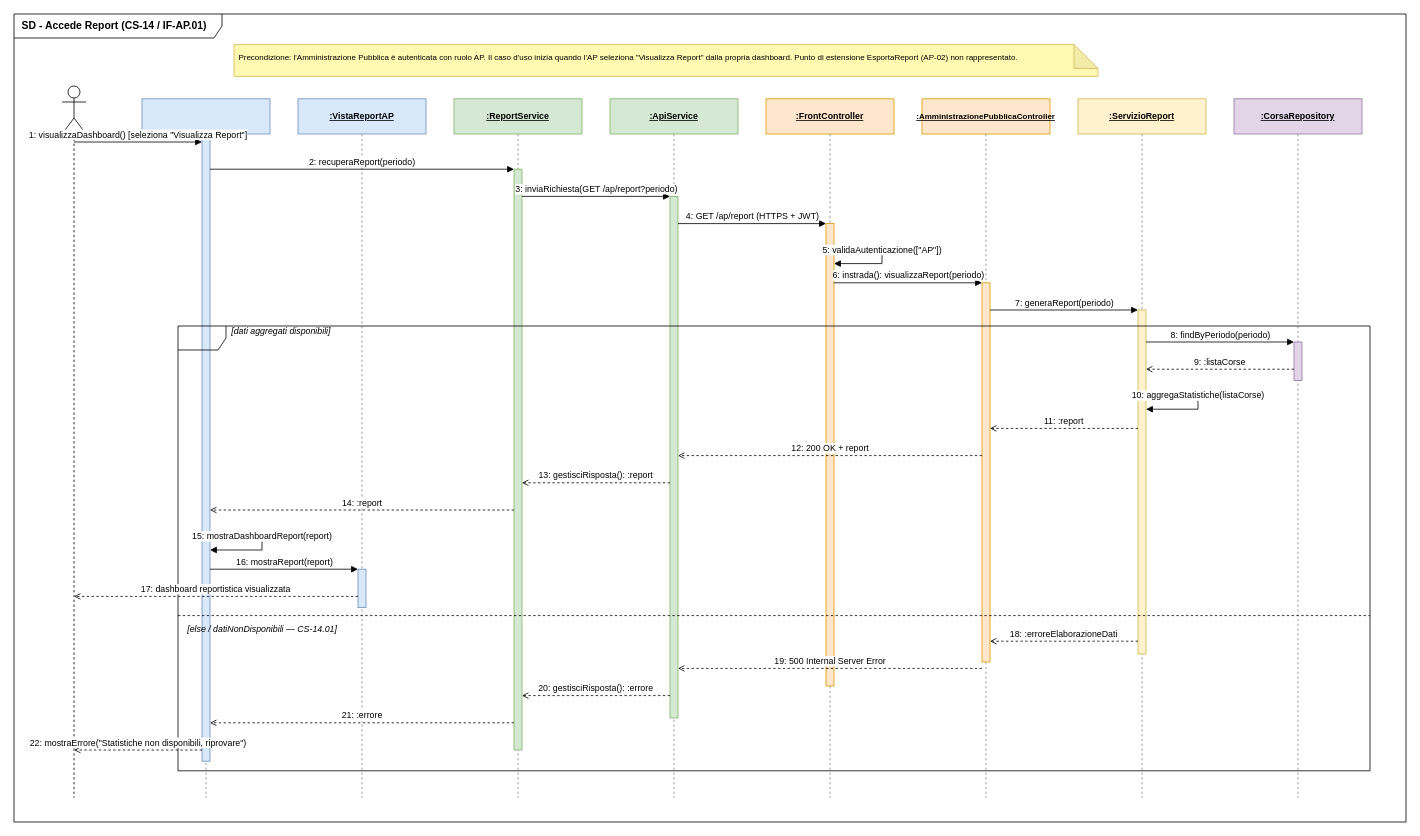
Some shapes in this 1420 by 836 pixel diagram are drawn without their labels. Each missing label, with the box of its shape:
:AmministrazionePubblica: (61, 85, 86, 134)
:VistaDashboardAP: (141, 98, 270, 134)
alt: (177, 325, 1370, 771)
